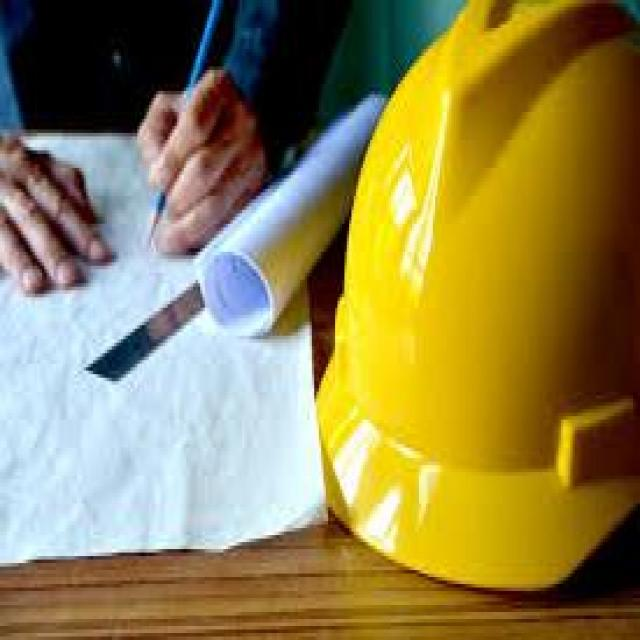Safety-Helmet: (295, 0, 640, 619)
